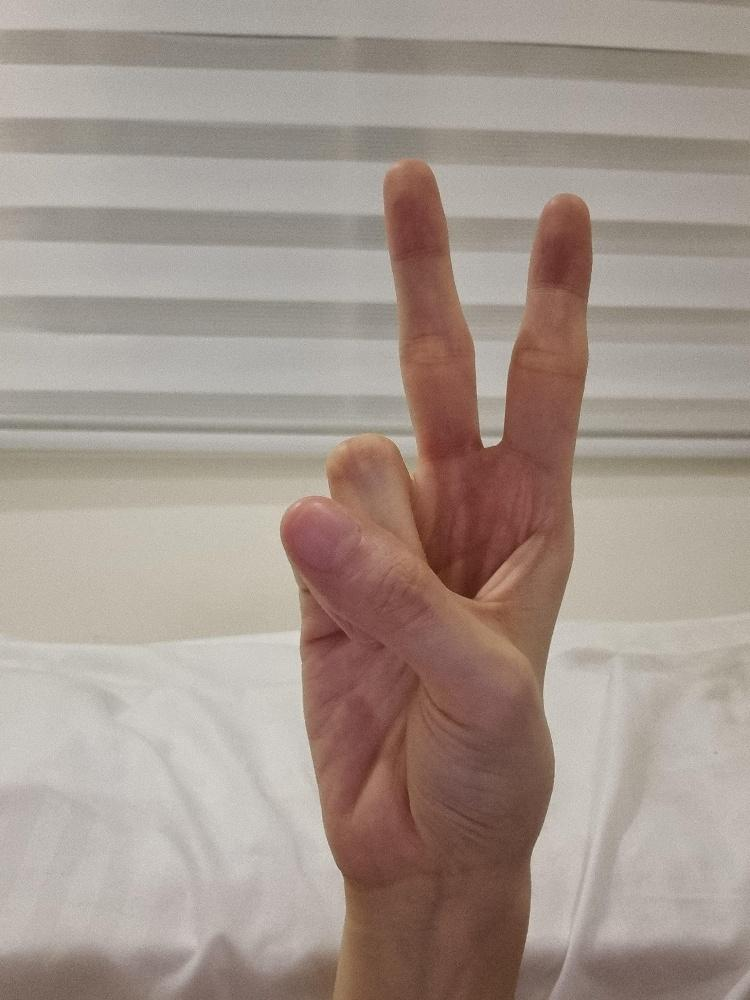v: (279, 155, 593, 879)
